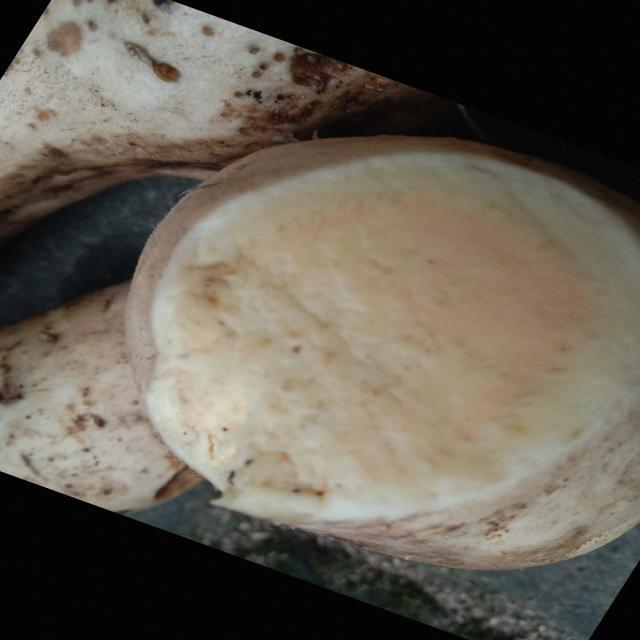Healthy Sweet Potato: (147, 154, 638, 521)
